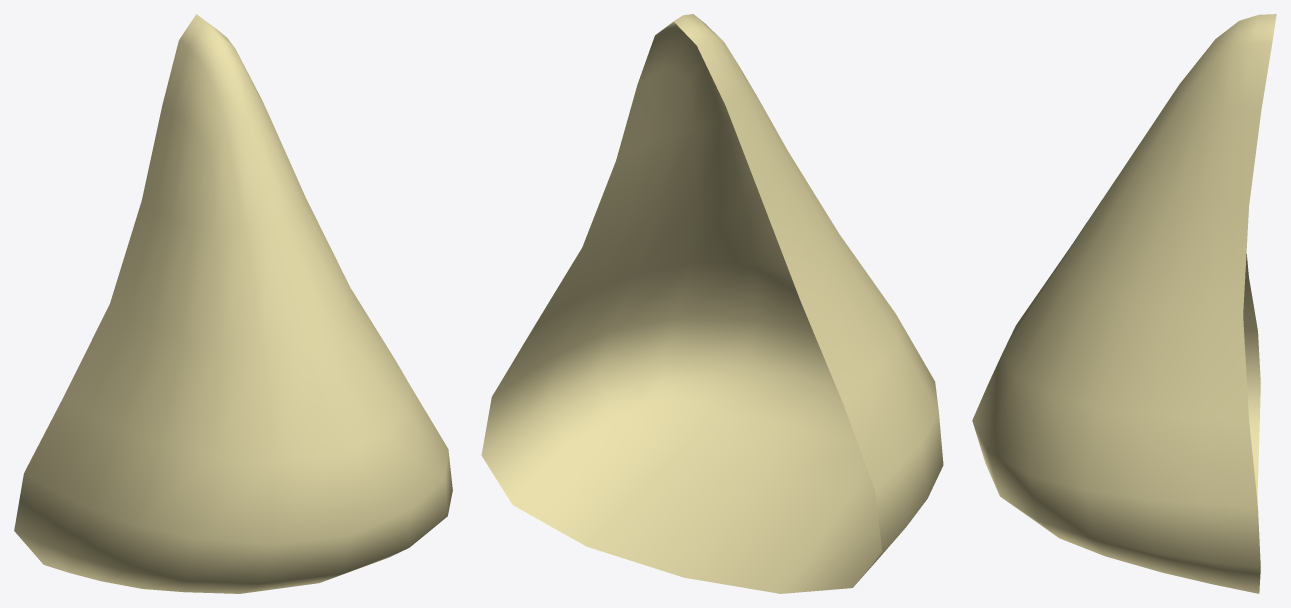
Rendered from nose-3.fbx.
3 views of the same model, side by side, from view 1: azimuth 30°, elevation 25°; view 2: azimuth 150°, elevation 25°; view 3: azimuth 270°, elevation 25° (orthographic). The views are drawn at different scales.
Parts seen in each view (by area): view 1: Cube; view 2: Cube; view 3: Cube.
Boxes of the visible parts, bbox=[...] form: Cube: bbox=[14, 14, 452, 593]; Cube: bbox=[481, 14, 943, 593]; Cube: bbox=[972, 14, 1276, 593].
Size of the model in its own units: 14.21 by 19.1 by 9.91.
